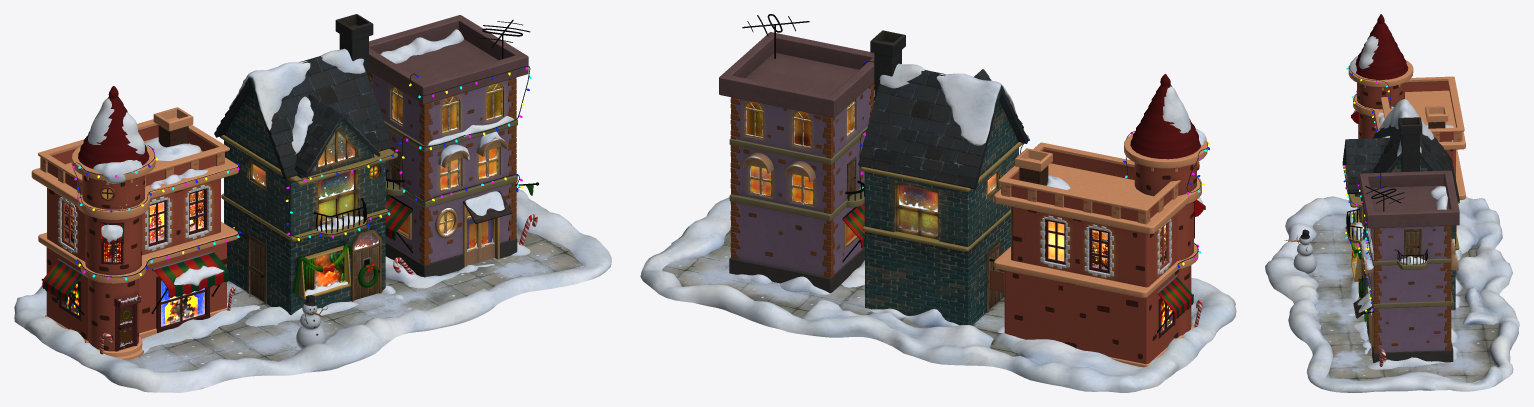
Rendered from tiendas2_lev5.glb.
The picture shows the model from 3 angles, left to right: view 1: azimuth 30°, elevation 25°; view 2: azimuth 150°, elevation 25°; view 3: azimuth 270°, elevation 25°; orthographic projection. The views are drawn at different scales.
Parts seen in each view (by area): view 1: snowy_village.1_1.001; view 2: snowy_village.1_1.001; view 3: snowy_village.1_1.001.
Part boxes in pixels (x1=…): snowy_village.1_1.001: x1=14, y1=14, x2=611, y2=392; snowy_village.1_1.001: x1=640, y1=14, x2=1236, y2=392; snowy_village.1_1.001: x1=1265, y1=14, x2=1519, y2=392.
Bounding box in the file's own units: 129 × 63.22 × 71.61.
4 materials, 4 textured.
